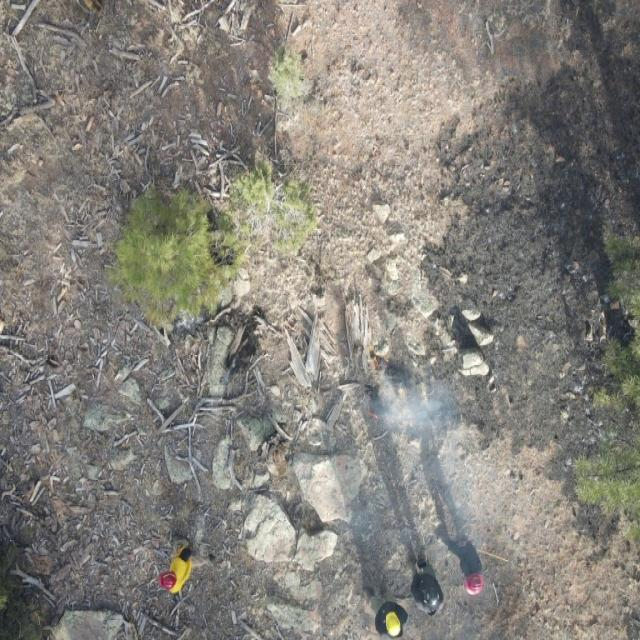fire: (365, 404, 384, 428), (364, 351, 384, 371)
smoke: (345, 360, 482, 558)
